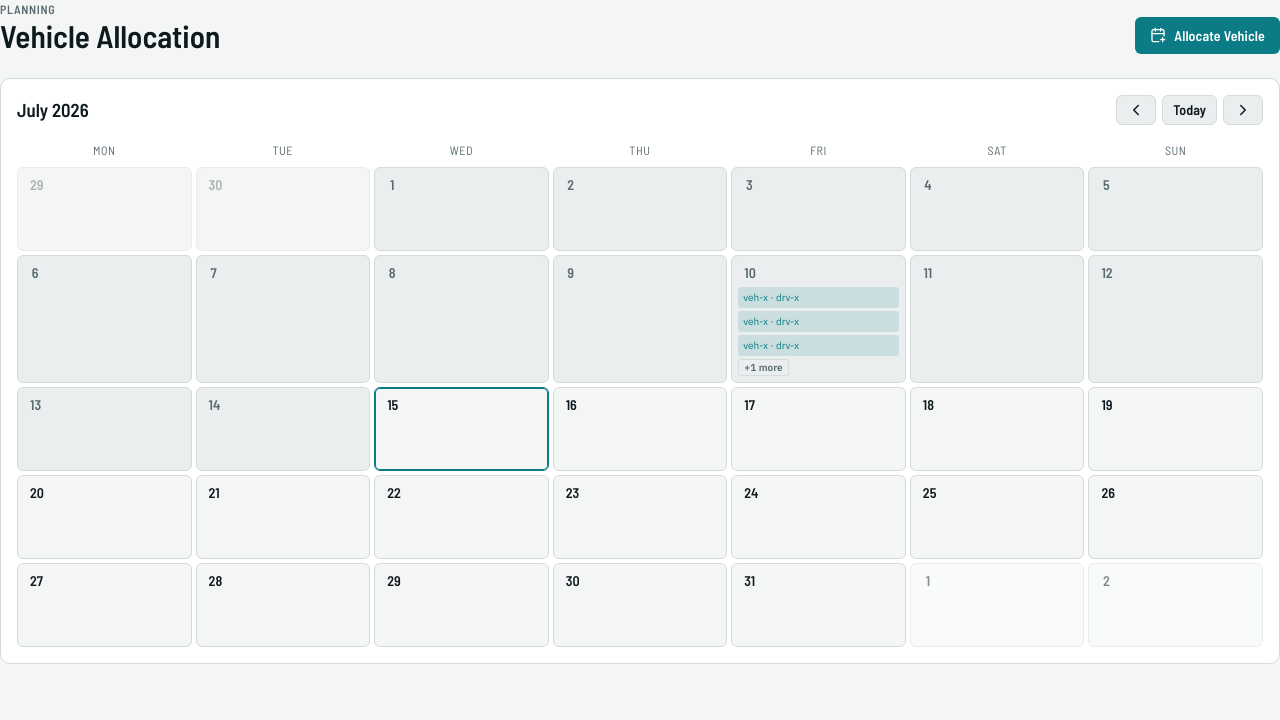
Test: AllocationPage › shows a past day view read-only, with id fallbacks and no add
Expected: the button "Allocate Vehicle" is shown, [1135, 17, 1279, 54]
What coordinates should you click on to do the following:
click the button "+1 more"
I would click on:
 (763, 367)
Its box is [738, 359, 789, 376].
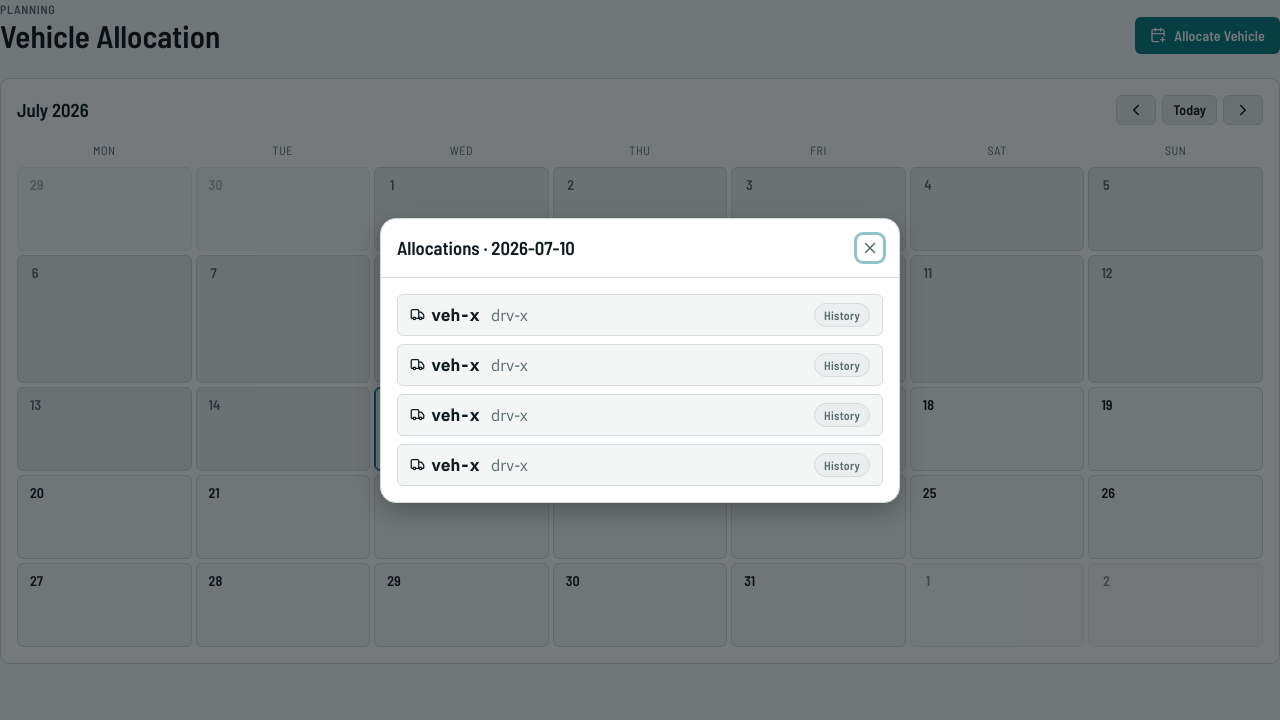
close the day view (a past day has no footer, only the header close control)
What coordinates should you click on to do the following:
click the button named "close"
I would click on:
 (870, 248)
Its box is [857, 234, 883, 260].
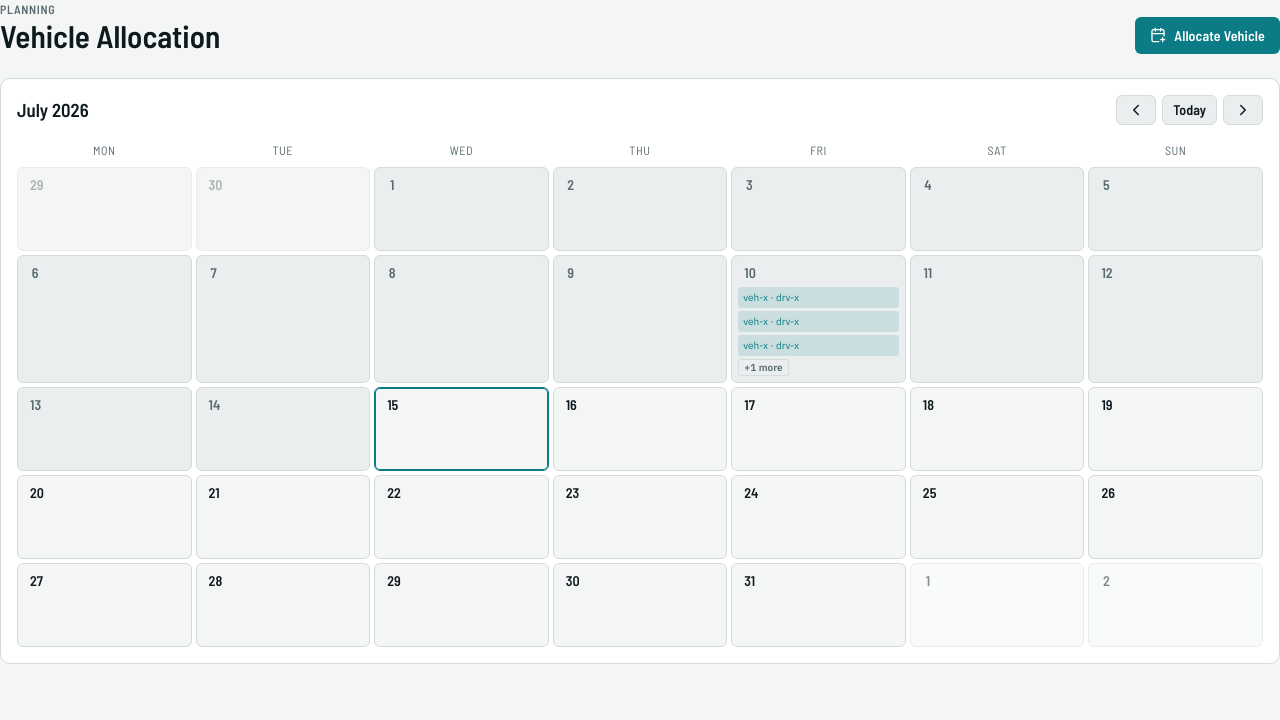
Expected: the heading "Allocations · 2026-07-10" is gone
